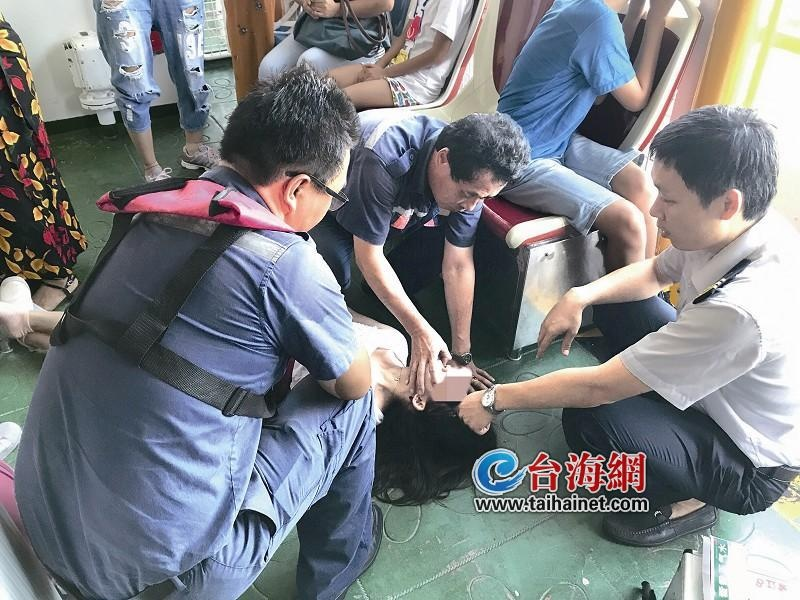falling: (285, 282, 519, 454)
